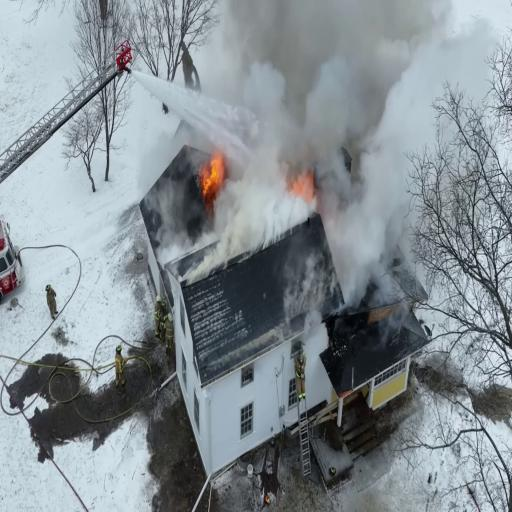fire: (286, 162, 325, 214), (202, 154, 223, 192)
smoke: (235, 29, 401, 149)
